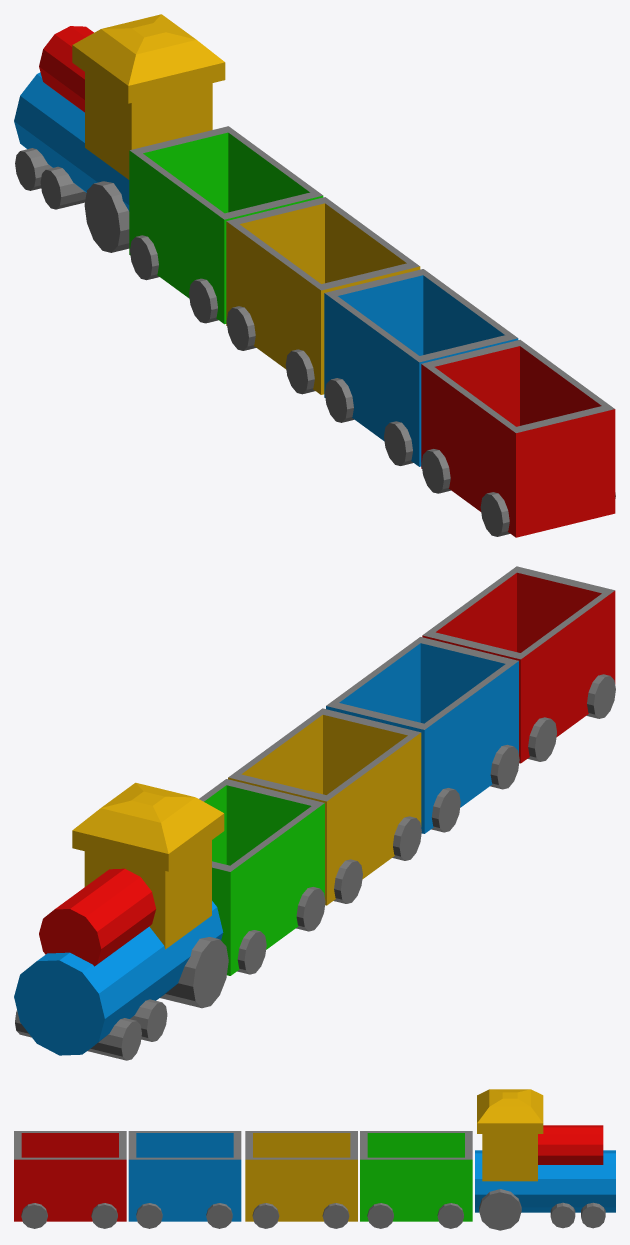
Rendered from JouetTrain.fbx.
The picture shows the model from 3 angles, top to bottom: view 1: azimuth 30°, elevation 25°; view 2: azimuth 150°, elevation 25°; view 3: azimuth 270°, elevation 25°; orthographic projection. The views are drawn at different scales.
Visible parts, largest first — view 1: Train; view 2: Train; view 3: Train.
Part boxes in pixels (x1=…): Train: x1=14, y1=14, x2=615, y2=537; Train: x1=14, y1=566, x2=615, y2=1060; Train: x1=14, y1=1089, x2=615, y2=1230.
Size of the model in its own units: 5.94 by 10.1 by 46.18.
